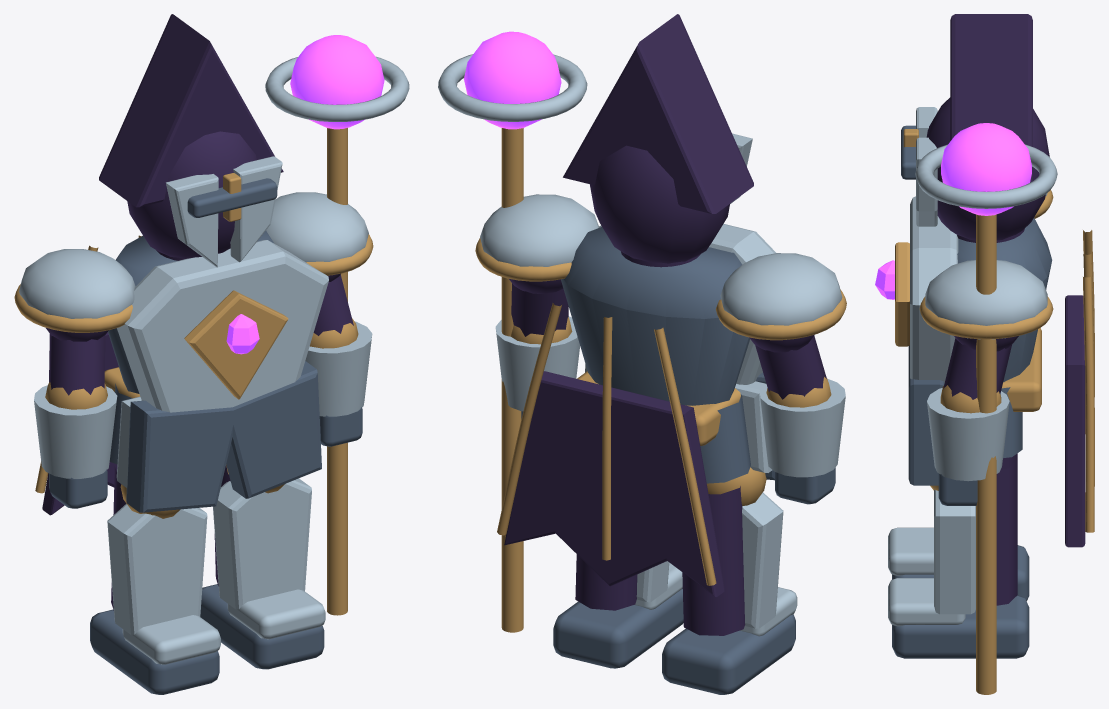
The model's file is moonsteel-convergence-acolyte-minion-80429fc7__18177.glb.
3 views of the same model, side by side, from view 1: azimuth 30°, elevation 25°; view 2: azimuth 150°, elevation 25°; view 3: azimuth 270°, elevation 25° (orthographic). The views are drawn at different scales.
Visible parts, largest first — view 1: acolyte-minion; view 2: acolyte-minion; view 3: acolyte-minion.
Boxes of the visible parts, x1,y1,x2,y2 form: acolyte-minion: (14,14,409,694); acolyte-minion: (438,14,846,694); acolyte-minion: (875,14,1094,694).
Bounding box in the file's own units: 0.9405 × 1.48 × 0.4838.
